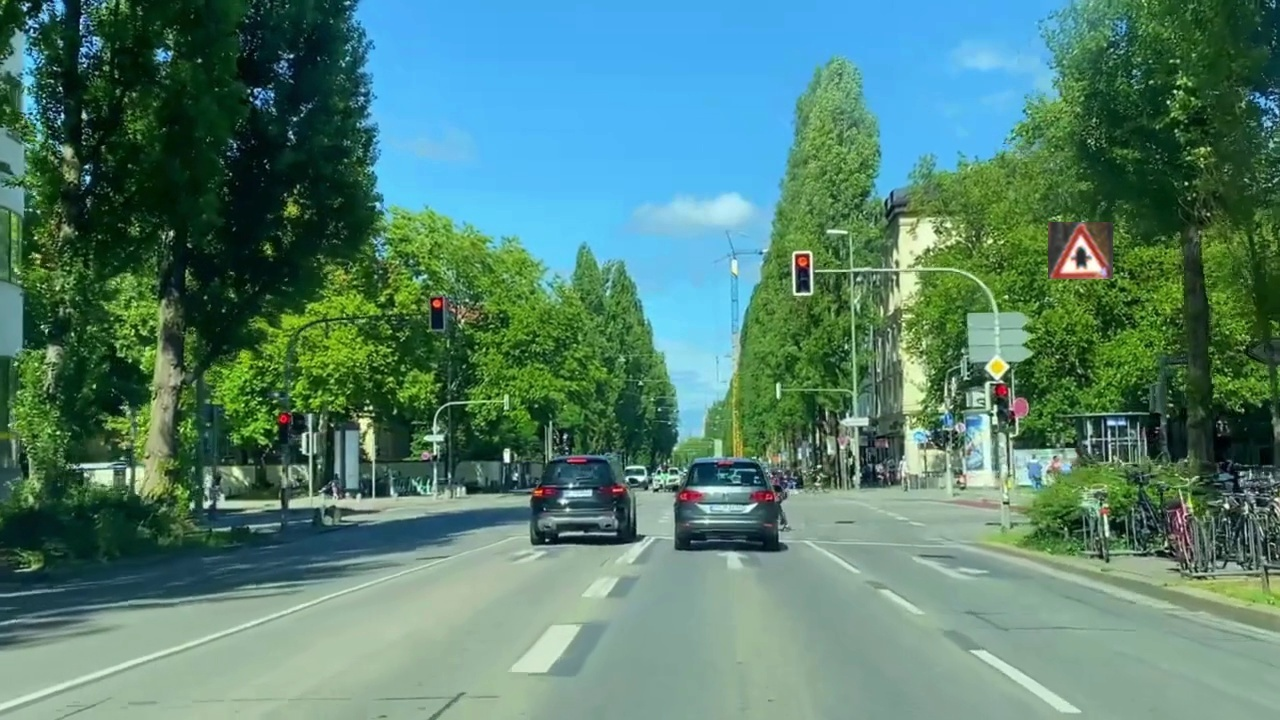Right-of-way: (1048, 222, 1113, 279)
